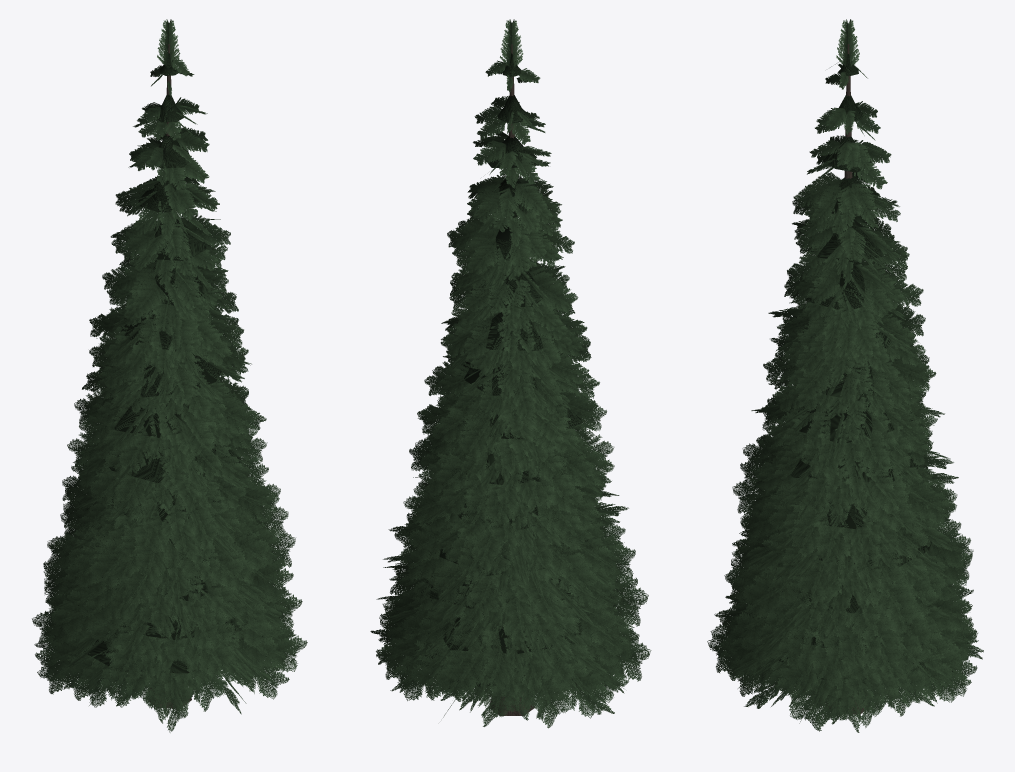
File: tree-spruce.glb
3 views of the same model, side by side, from view 1: azimuth 30°, elevation 25°; view 2: azimuth 150°, elevation 25°; view 3: azimuth 270°, elevation 25° (orthographic).
Visible parts, largest first — view 1: tree-spruce; view 2: tree-spruce; view 3: tree-spruce.
Part boxes in pixels (bbox=[...]): tree-spruce: bbox=[32, 19, 307, 732]; tree-spruce: bbox=[370, 19, 651, 728]; tree-spruce: bbox=[707, 19, 983, 732].
Size of the model in its own units: 6.59 by 16.62 by 6.62.
2 materials, 2 textured.
